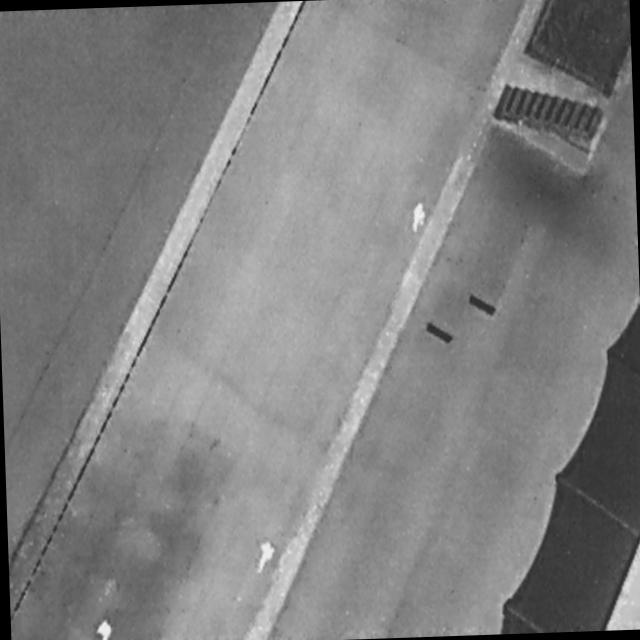person: (251, 538, 279, 581), (406, 196, 430, 238), (95, 615, 113, 640)
